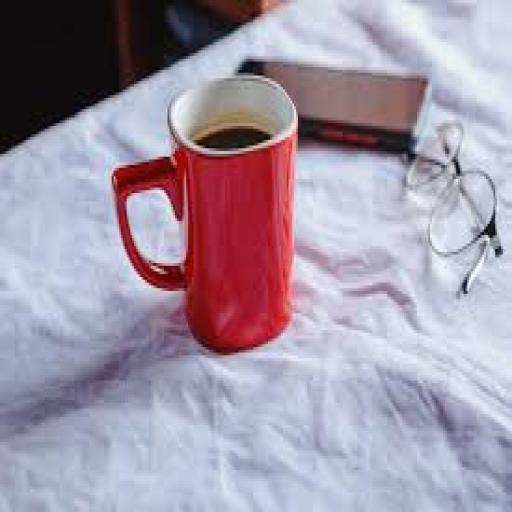phone: (241, 62, 430, 151)
red mug: (114, 76, 297, 352)
